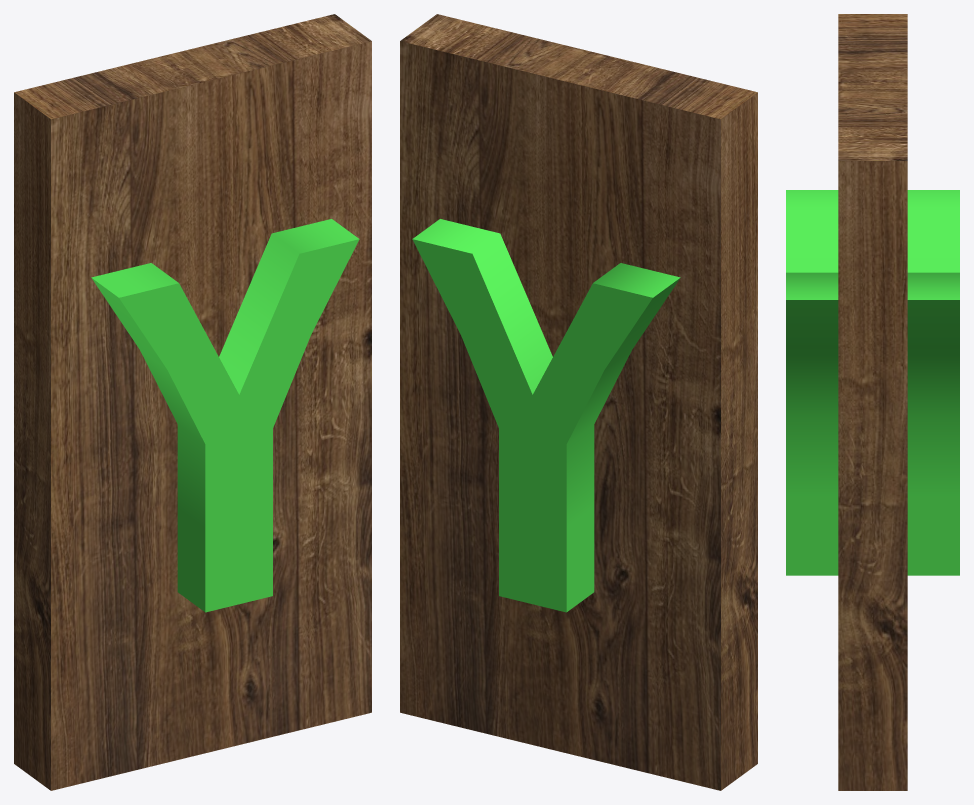
Rendered from wood_Y.fbx.
The picture shows the model from 3 angles, left to right: view 1: azimuth 30°, elevation 25°; view 2: azimuth 150°, elevation 25°; view 3: azimuth 270°, elevation 25°; orthographic projection. The views are drawn at different scales.
Parts seen in each view (by area): view 1: Box001, Box002; view 2: Box001, Box002; view 3: Box001, Box002.
Boxes of the visible parts, <box> form: Box001: <box>14,14,371,790</box>; Box002: <box>91,219,359,612</box>; Box001: <box>400,14,757,790</box>; Box002: <box>412,219,680,612</box>; Box001: <box>838,14,907,790</box>; Box002: <box>786,190,959,575</box>.
Size of the model in its own units: 78.74 by 39.37 by 157.
2 materials, 2 textured.
